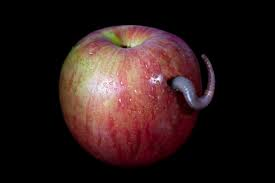damaged_apple: (63, 27, 215, 167)
